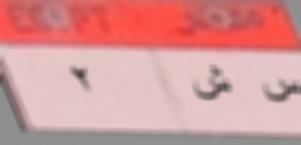2: (70, 62, 97, 94)
seen: (262, 75, 301, 112)
sheen: (187, 61, 236, 104)
